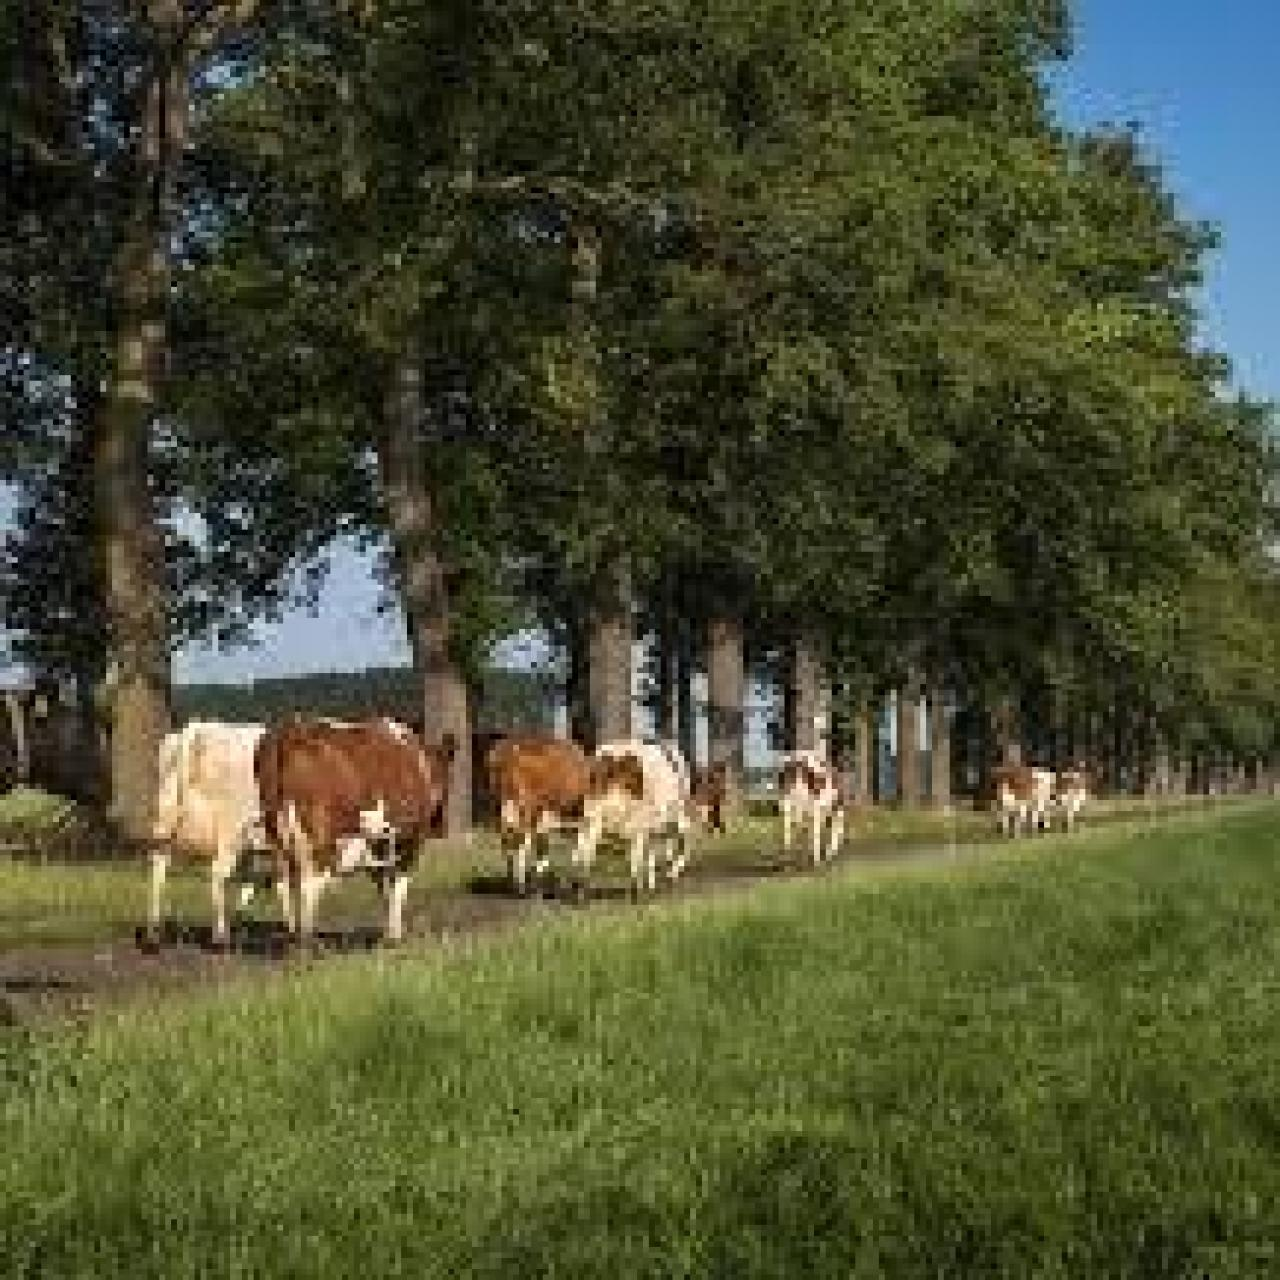cow: (245, 706, 457, 960), (138, 712, 268, 960), (557, 734, 699, 888), (478, 729, 595, 899), (770, 753, 852, 869), (985, 756, 1085, 838)
